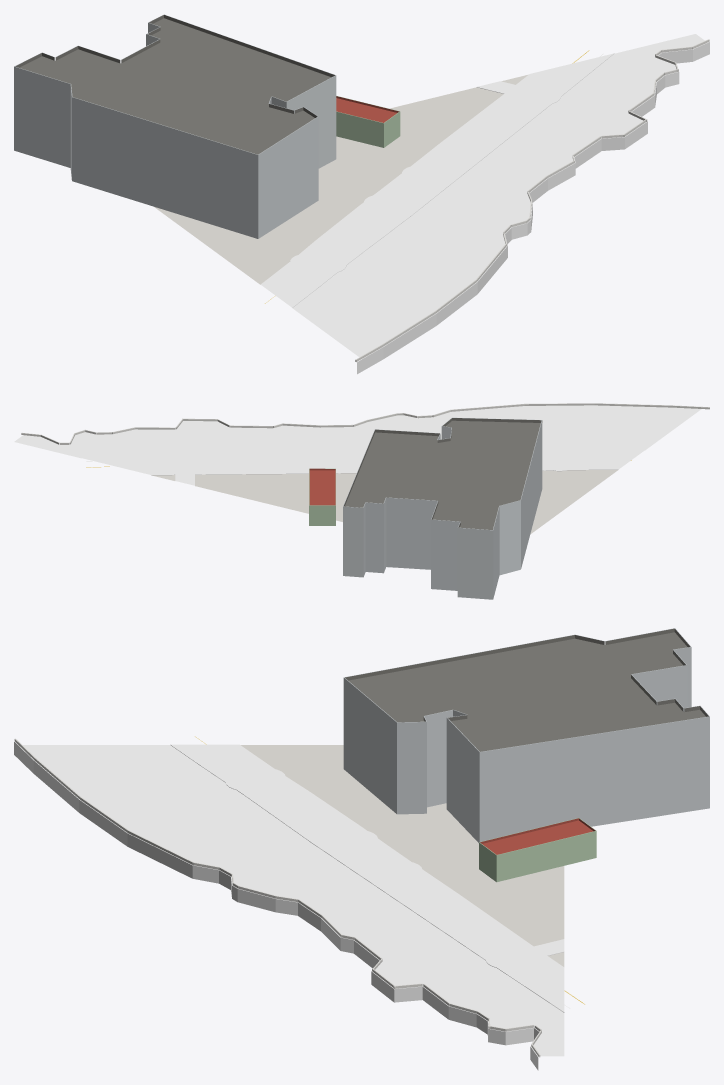
3 renders of one model, top to bottom at view 1: azimuth 30°, elevation 25°; view 2: azimuth 150°, elevation 25°; view 3: azimuth 270°, elevation 25°, orthographic. The views are drawn at different scales.
Visible parts, largest first — view 1: concrete, walls, roofs, sidewalk, ground, coast, stone; view 2: concrete, roofs, walls, sidewalk, ground, stone; view 3: walls, concrete, roofs, sidewalk, ground, coast, stone.
Part boxes in pixels (bbox=[...]): concrete: bbox=[292, 34, 707, 358]; walls: bbox=[14, 23, 400, 238]; roofs: bbox=[14, 14, 399, 154]; sidewalk: bbox=[261, 53, 614, 307]; ground: bbox=[154, 74, 528, 284]; coast: bbox=[357, 42, 709, 374]; stone: bbox=[355, 39, 709, 361]; concrete: bbox=[14, 405, 701, 458]; roofs: bbox=[309, 417, 542, 530]; walls: bbox=[309, 421, 542, 599]; sidewalk: bbox=[82, 450, 644, 485]; ground: bbox=[151, 470, 617, 534]; stone: bbox=[21, 403, 709, 444]; walls: bbox=[343, 647, 709, 882]; concrete: bbox=[18, 745, 564, 1056]; roofs: bbox=[344, 628, 709, 855]; sidewalk: bbox=[170, 744, 564, 1012]; ground: bbox=[241, 745, 564, 966]; coast: bbox=[14, 742, 539, 1070]; stone: bbox=[14, 738, 541, 1057].
Size of what is drawn, in the model's own units: 271 by 39.4 by 236.
